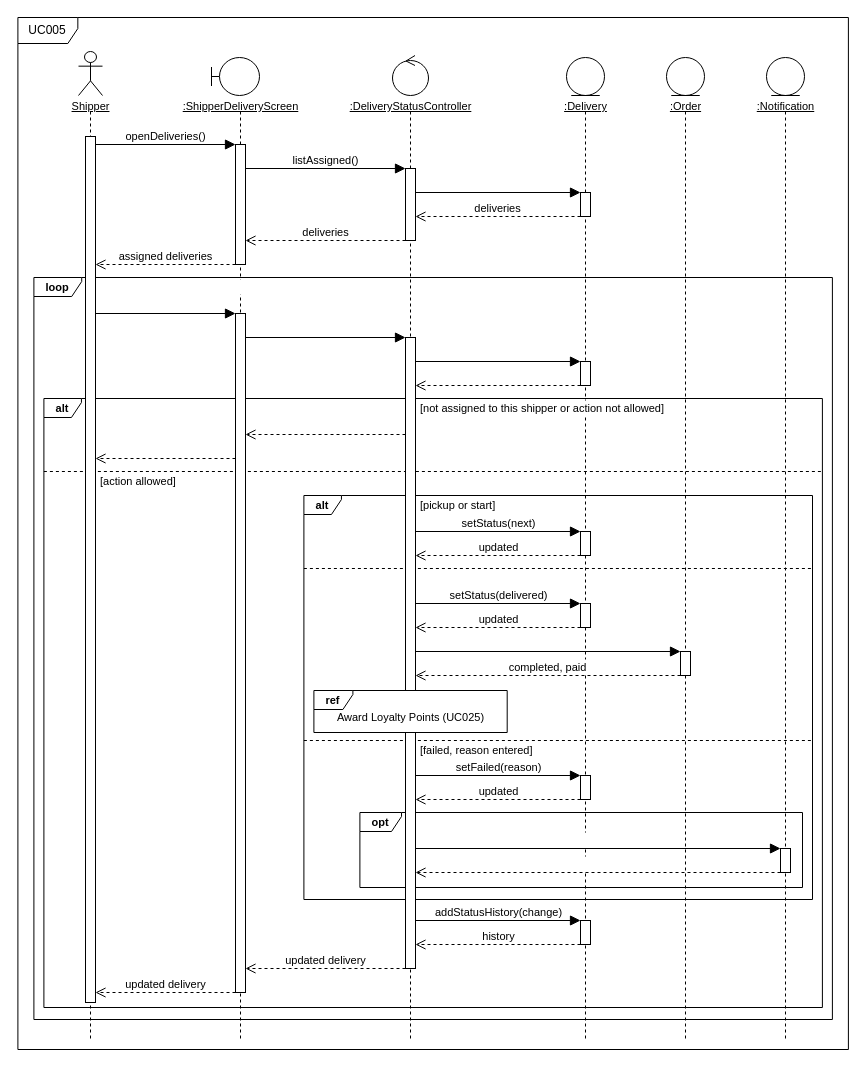
Some shapes in this 866 by 1067 pixel diagram are drawn without their labels. The centre of each missing label's shape, as x and y in pixels:
"[delivered]" goes at (337,577).
"[order has a member]" goes at (474,821).
"[until the delivery is delivered or failed]" goes at (196,286).
"act(delivery, action)" goes at (165,304).
"complete()" goes at (547,642).
"createDeliveryFailed(order)" goes at (597,839).
"delivery" goes at (497,376).
"error: reason" goes at (325,425).
"find(deliveryId)" goes at (497,352).
"findByShipper(shipperId)" goes at (497,183).
"notification" goes at (597,863).
"show error" goes at (165,449).
"updateDelivery(id, action)" goes at (325,328).
